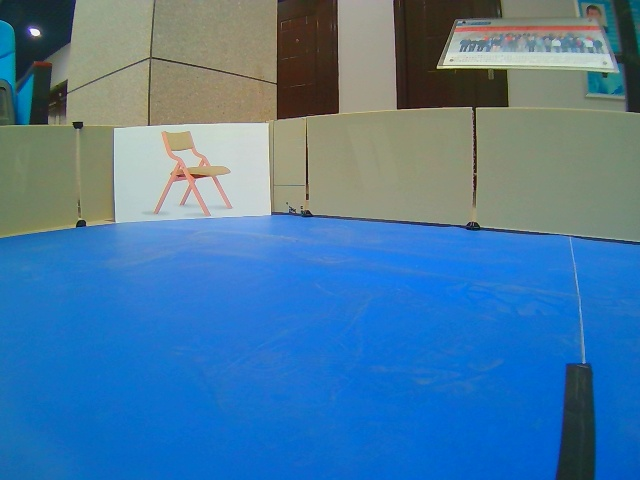table: (112, 122, 271, 222)
